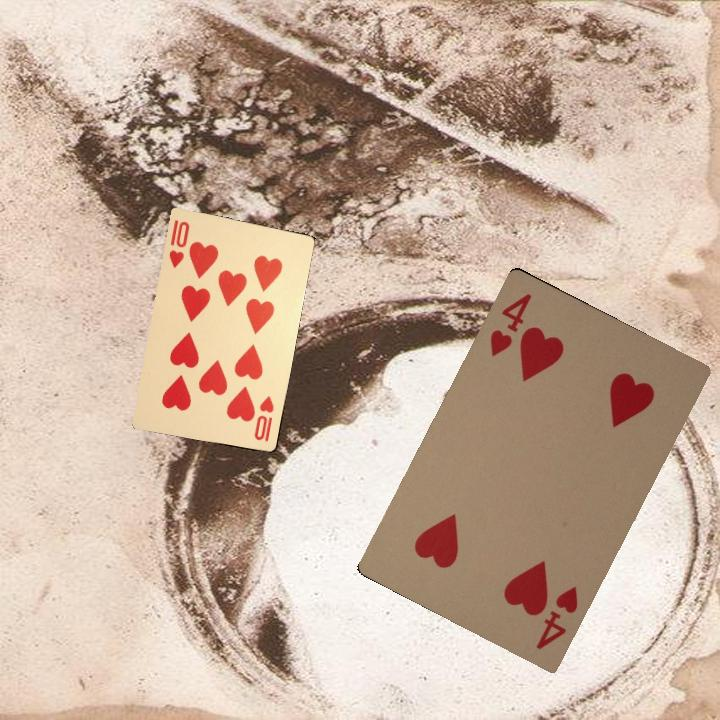10h: (165, 215, 192, 270), (250, 392, 276, 444)
4h: (531, 582, 581, 653), (485, 289, 535, 359)
